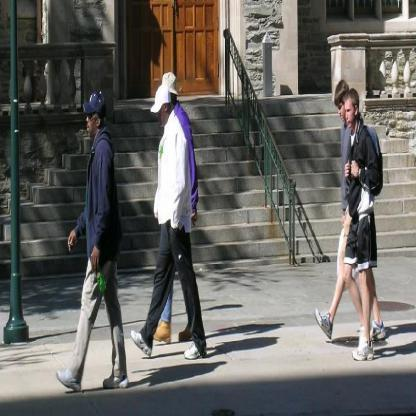person: (51, 90, 136, 388), (133, 83, 210, 359), (336, 90, 383, 369)
